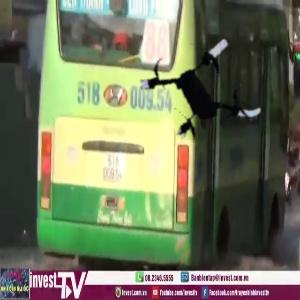drone: (143, 24, 271, 152)
